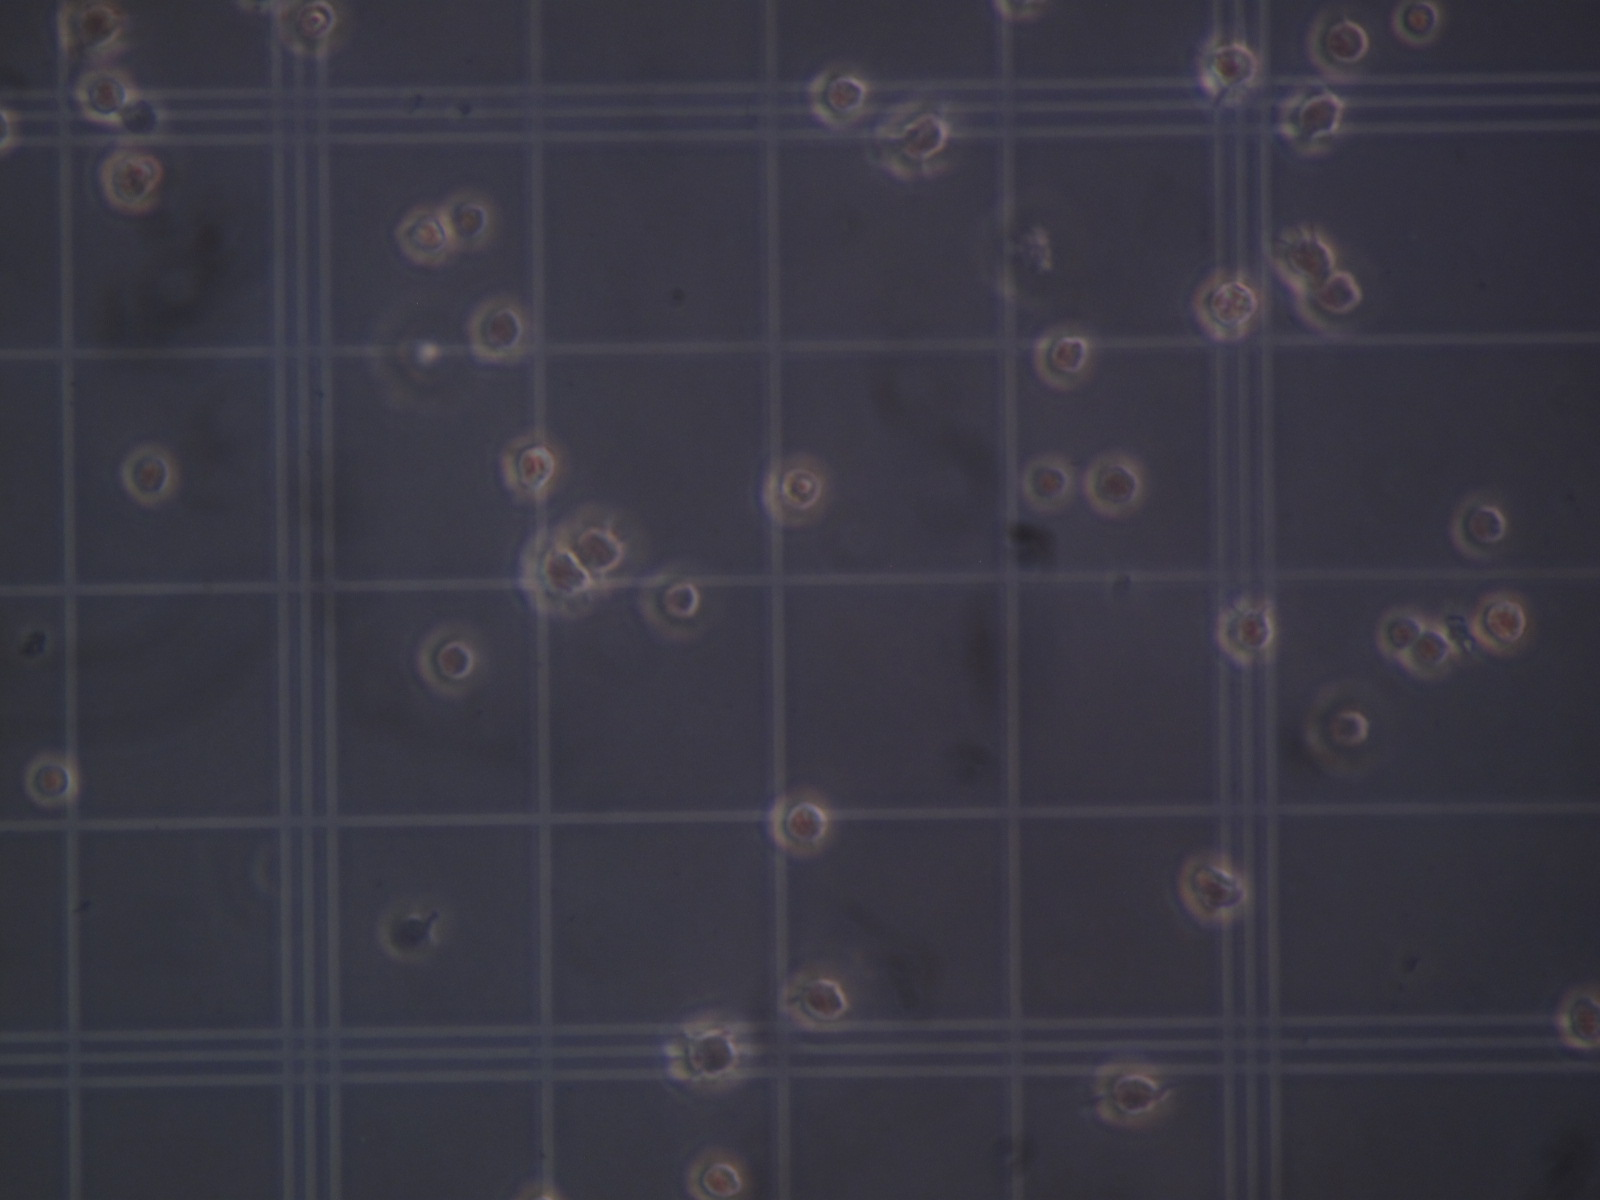hemo: (518, 532, 596, 616), (1304, 684, 1372, 778), (663, 1016, 745, 1093), (876, 100, 951, 179), (556, 503, 627, 579), (416, 621, 486, 698), (761, 453, 830, 528), (1277, 86, 1346, 158), (637, 567, 704, 640), (1178, 855, 1249, 923), (1295, 270, 1364, 337), (1192, 274, 1259, 343), (1092, 1060, 1162, 1127), (1305, 10, 1369, 81), (767, 790, 830, 857), (1196, 39, 1260, 103), (784, 971, 849, 1034), (100, 149, 163, 213), (273, 1, 344, 58), (377, 901, 441, 963), (466, 297, 527, 363), (500, 434, 559, 500), (55, 1, 123, 58), (1214, 604, 1276, 666), (1449, 495, 1507, 561), (808, 67, 868, 129), (1033, 328, 1092, 391), (1083, 454, 1143, 517), (1274, 229, 1335, 289), (1471, 592, 1529, 655), (394, 205, 454, 266), (120, 442, 176, 505), (685, 1148, 751, 1200), (76, 68, 134, 124), (440, 190, 493, 250), (1022, 456, 1073, 512), (24, 754, 77, 807), (1557, 987, 1600, 1050), (1376, 608, 1424, 659), (1406, 626, 1453, 679), (1392, 3, 1441, 45), (116, 96, 165, 136), (1, 100, 14, 158)
